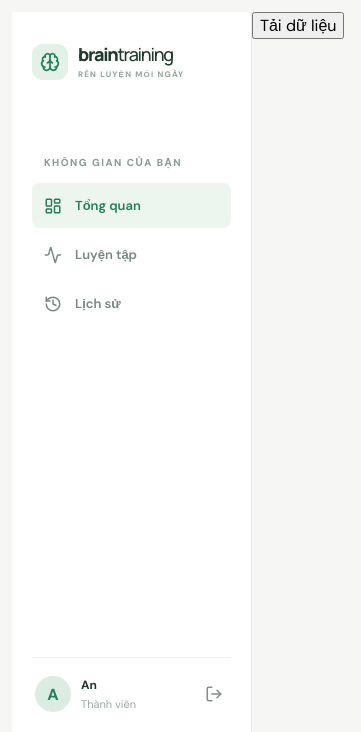
phiên hết hạn › đăng xuất về đăng nhập khi máy chủ trả 401
What coordinates should you click on to do the following:
click the button named "Đăng xuất"
I would click on:
 (214, 694)
Its box is [200,680,228,708].
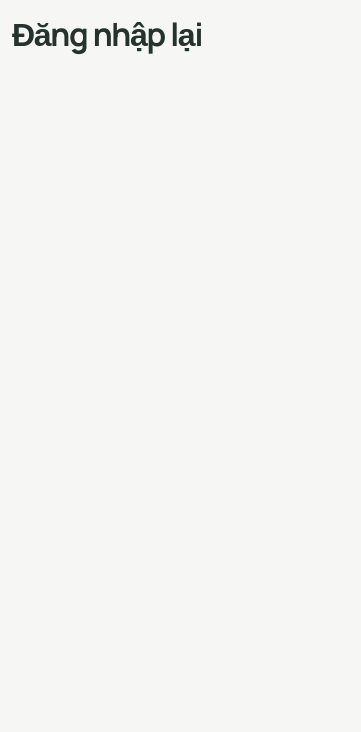
expect the heading "Đăng nhập lại" is shown: met, box [12,12,202,56]
